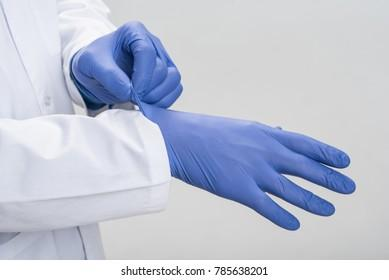gloves: (137, 98, 357, 232), (70, 19, 183, 110)
